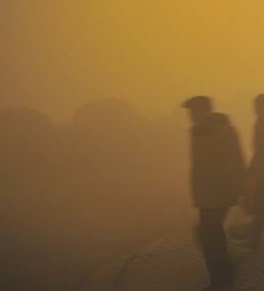person: (178, 93, 254, 290)
